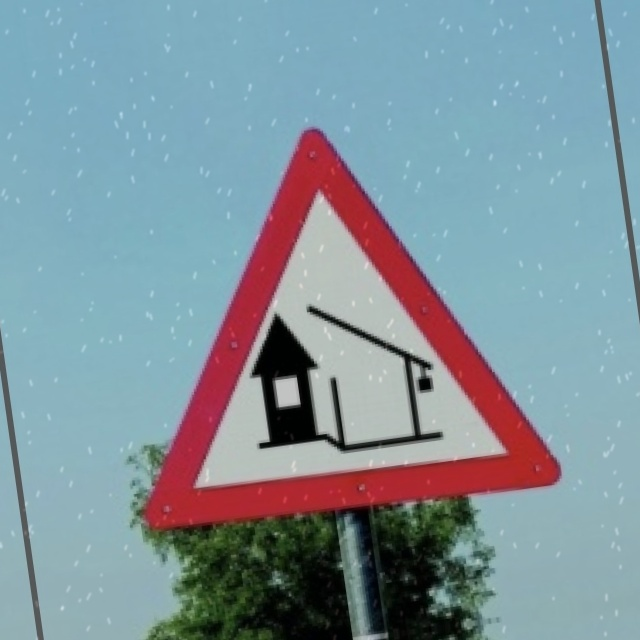Barrier_Ahead: (113, 104, 550, 544)
